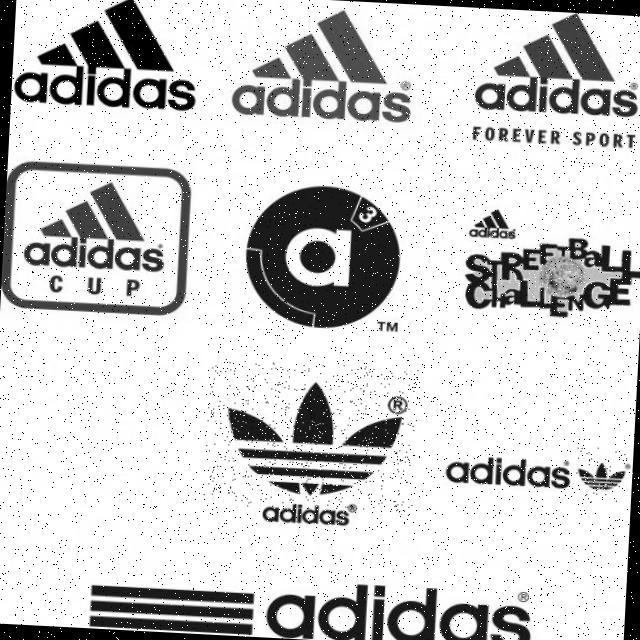Adidas: (203, 358, 420, 516), (575, 446, 628, 505)
